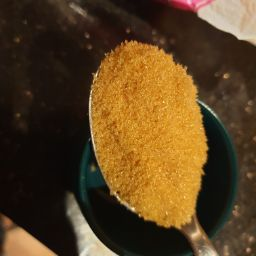Brown Sugar: (71, 37, 217, 240), (104, 73, 185, 168), (124, 85, 191, 195), (133, 59, 173, 207)
